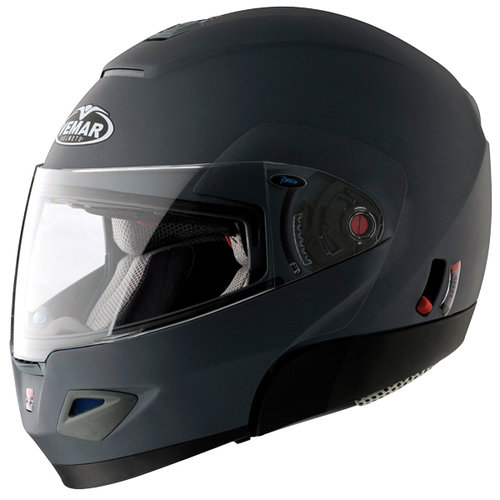helmet: (39, 21, 484, 441)
